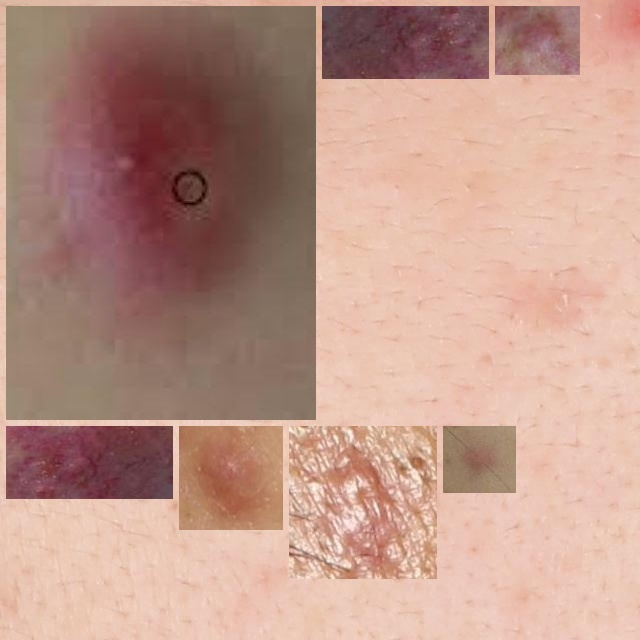nodule: (14, 14, 308, 412), (297, 434, 429, 571), (330, 14, 481, 71), (14, 434, 165, 491), (187, 434, 275, 522), (503, 14, 572, 67), (451, 434, 508, 485)
